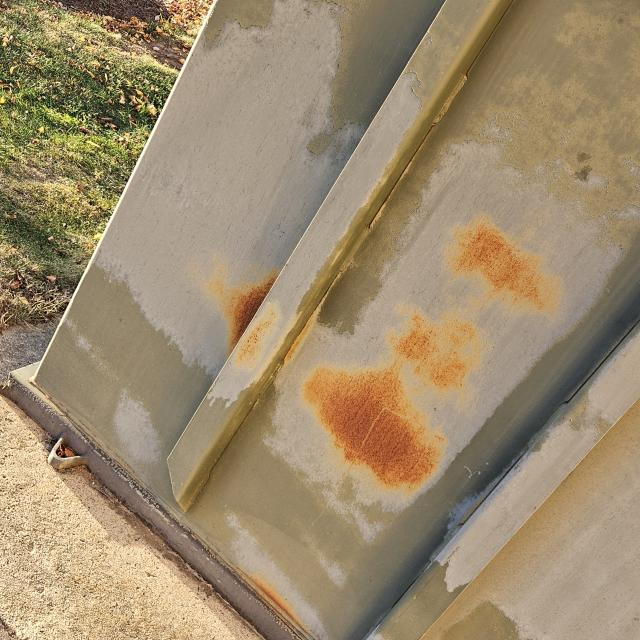Uniform Corrosion: (302, 307, 479, 494), (450, 222, 554, 310), (231, 280, 275, 346)
